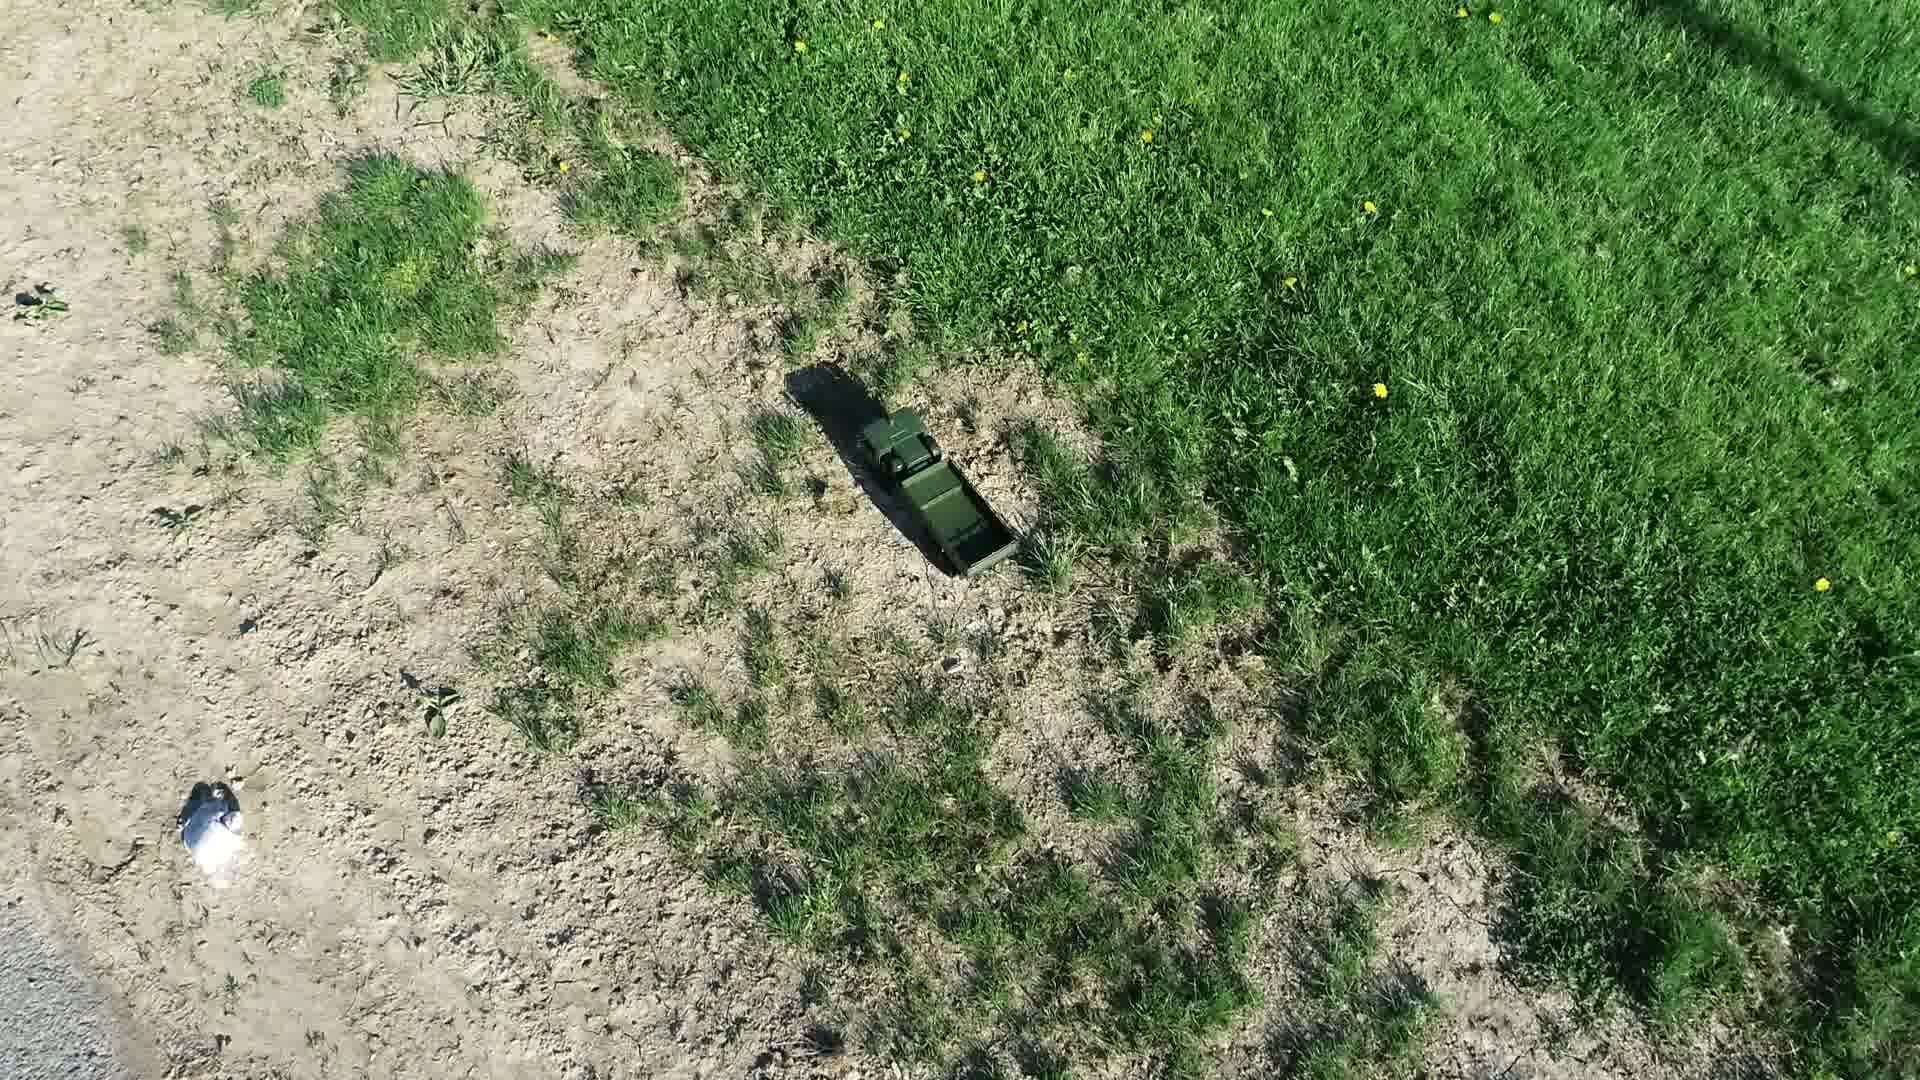transporter9: (845, 405, 1042, 592)
